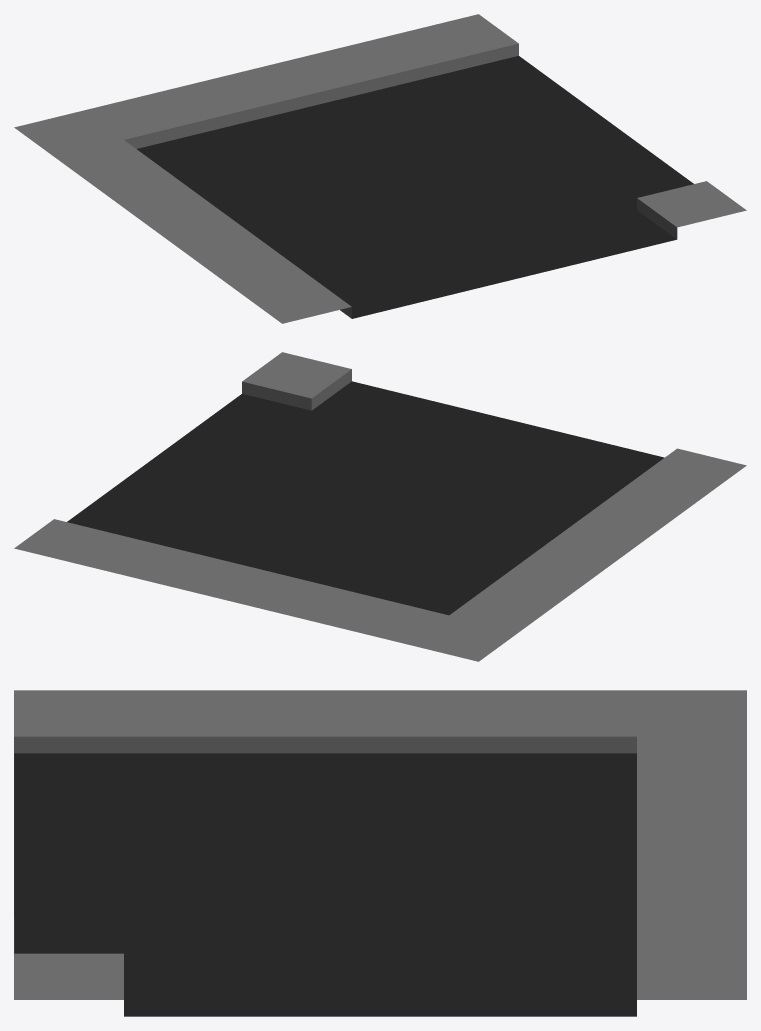
File: Road-8.obj
The picture shows the model from 3 angles, top to bottom: view 1: azimuth 30°, elevation 25°; view 2: azimuth 150°, elevation 25°; view 3: azimuth 270°, elevation 25°; orthographic projection. The views are drawn at different scales.
Parts seen in each view (by area): view 1: Plane.003; view 2: Plane.003; view 3: Plane.003.
Boxes of the visible parts, x1,y1,x2,y2 form: Plane.003: [14, 14, 746, 323]; Plane.003: [14, 352, 746, 661]; Plane.003: [14, 690, 746, 1016].
Bounding box in the file's own units: 20 × 0.5 × 20.
